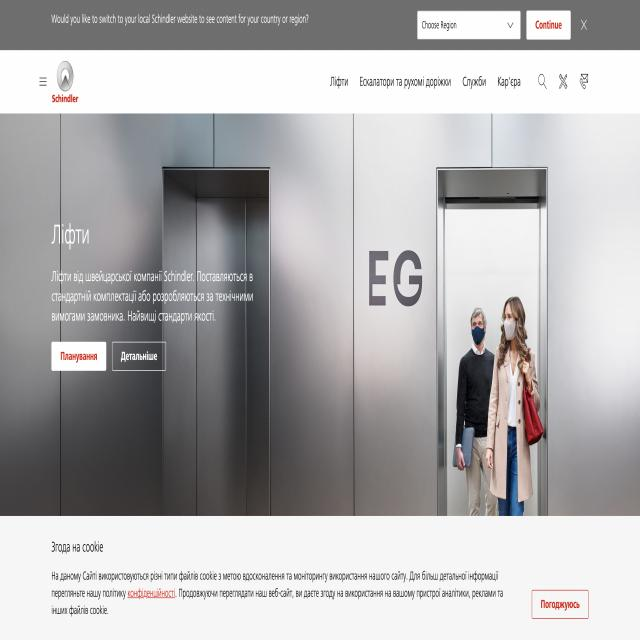Logo: (49, 53, 82, 111)
Navigation: (323, 64, 601, 95)
